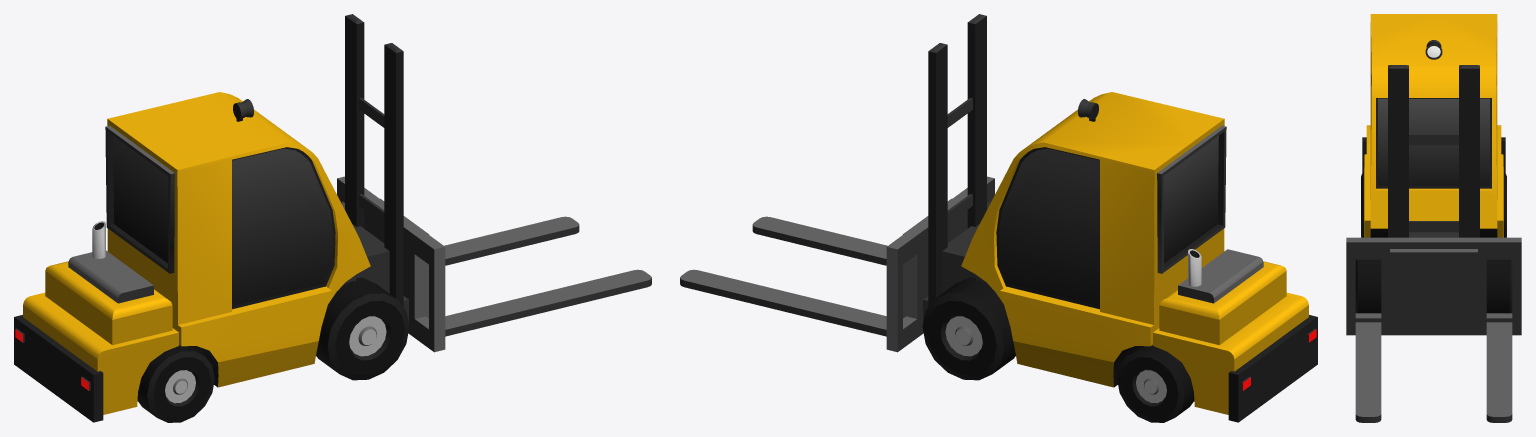
The model's file is Construction_011.glb.
3 renders of one model, left to right at view 1: azimuth 30°, elevation 25°; view 2: azimuth 150°, elevation 25°; view 3: azimuth 270°, elevation 25°, orthographic. The views are drawn at different scales.
Parts seen in each view (by area): view 1: Construction_011, wheel_1_Construction_011_Wheel_1R, wheel_3_Construction_011_Wheel_2R; view 2: Construction_011, wheel_0_Construction_011_Wheel_1L, wheel_2_Construction_011_Wheel_2L; view 3: Construction_011, wheel_0_Construction_011_Wheel_1L, wheel_1_Construction_011_Wheel_1R, wheel_2_Construction_011_Wheel_2L, wheel_3_Construction_011_Wheel_2R.
Part boxes in pixels (bbox=[...]): Construction_011: bbox=[14, 14, 651, 422]; wheel_1_Construction_011_Wheel_1R: bbox=[316, 277, 409, 380]; wheel_3_Construction_011_Wheel_2R: bbox=[137, 345, 214, 422]; Construction_011: bbox=[680, 14, 1317, 422]; wheel_0_Construction_011_Wheel_1L: bbox=[922, 277, 1015, 380]; wheel_2_Construction_011_Wheel_2L: bbox=[1117, 345, 1194, 422]; Construction_011: bbox=[1346, 14, 1521, 422]; wheel_0_Construction_011_Wheel_1L: bbox=[1486, 259, 1512, 313]; wheel_1_Construction_011_Wheel_1R: bbox=[1355, 259, 1381, 313]; wheel_2_Construction_011_Wheel_2L: bbox=[1504, 171, 1506, 237]; wheel_3_Construction_011_Wheel_2R: bbox=[1361, 171, 1363, 237].
Size of the model in its own units: 3.84 by 2 by 1.15.
2 materials, 2 textured.
